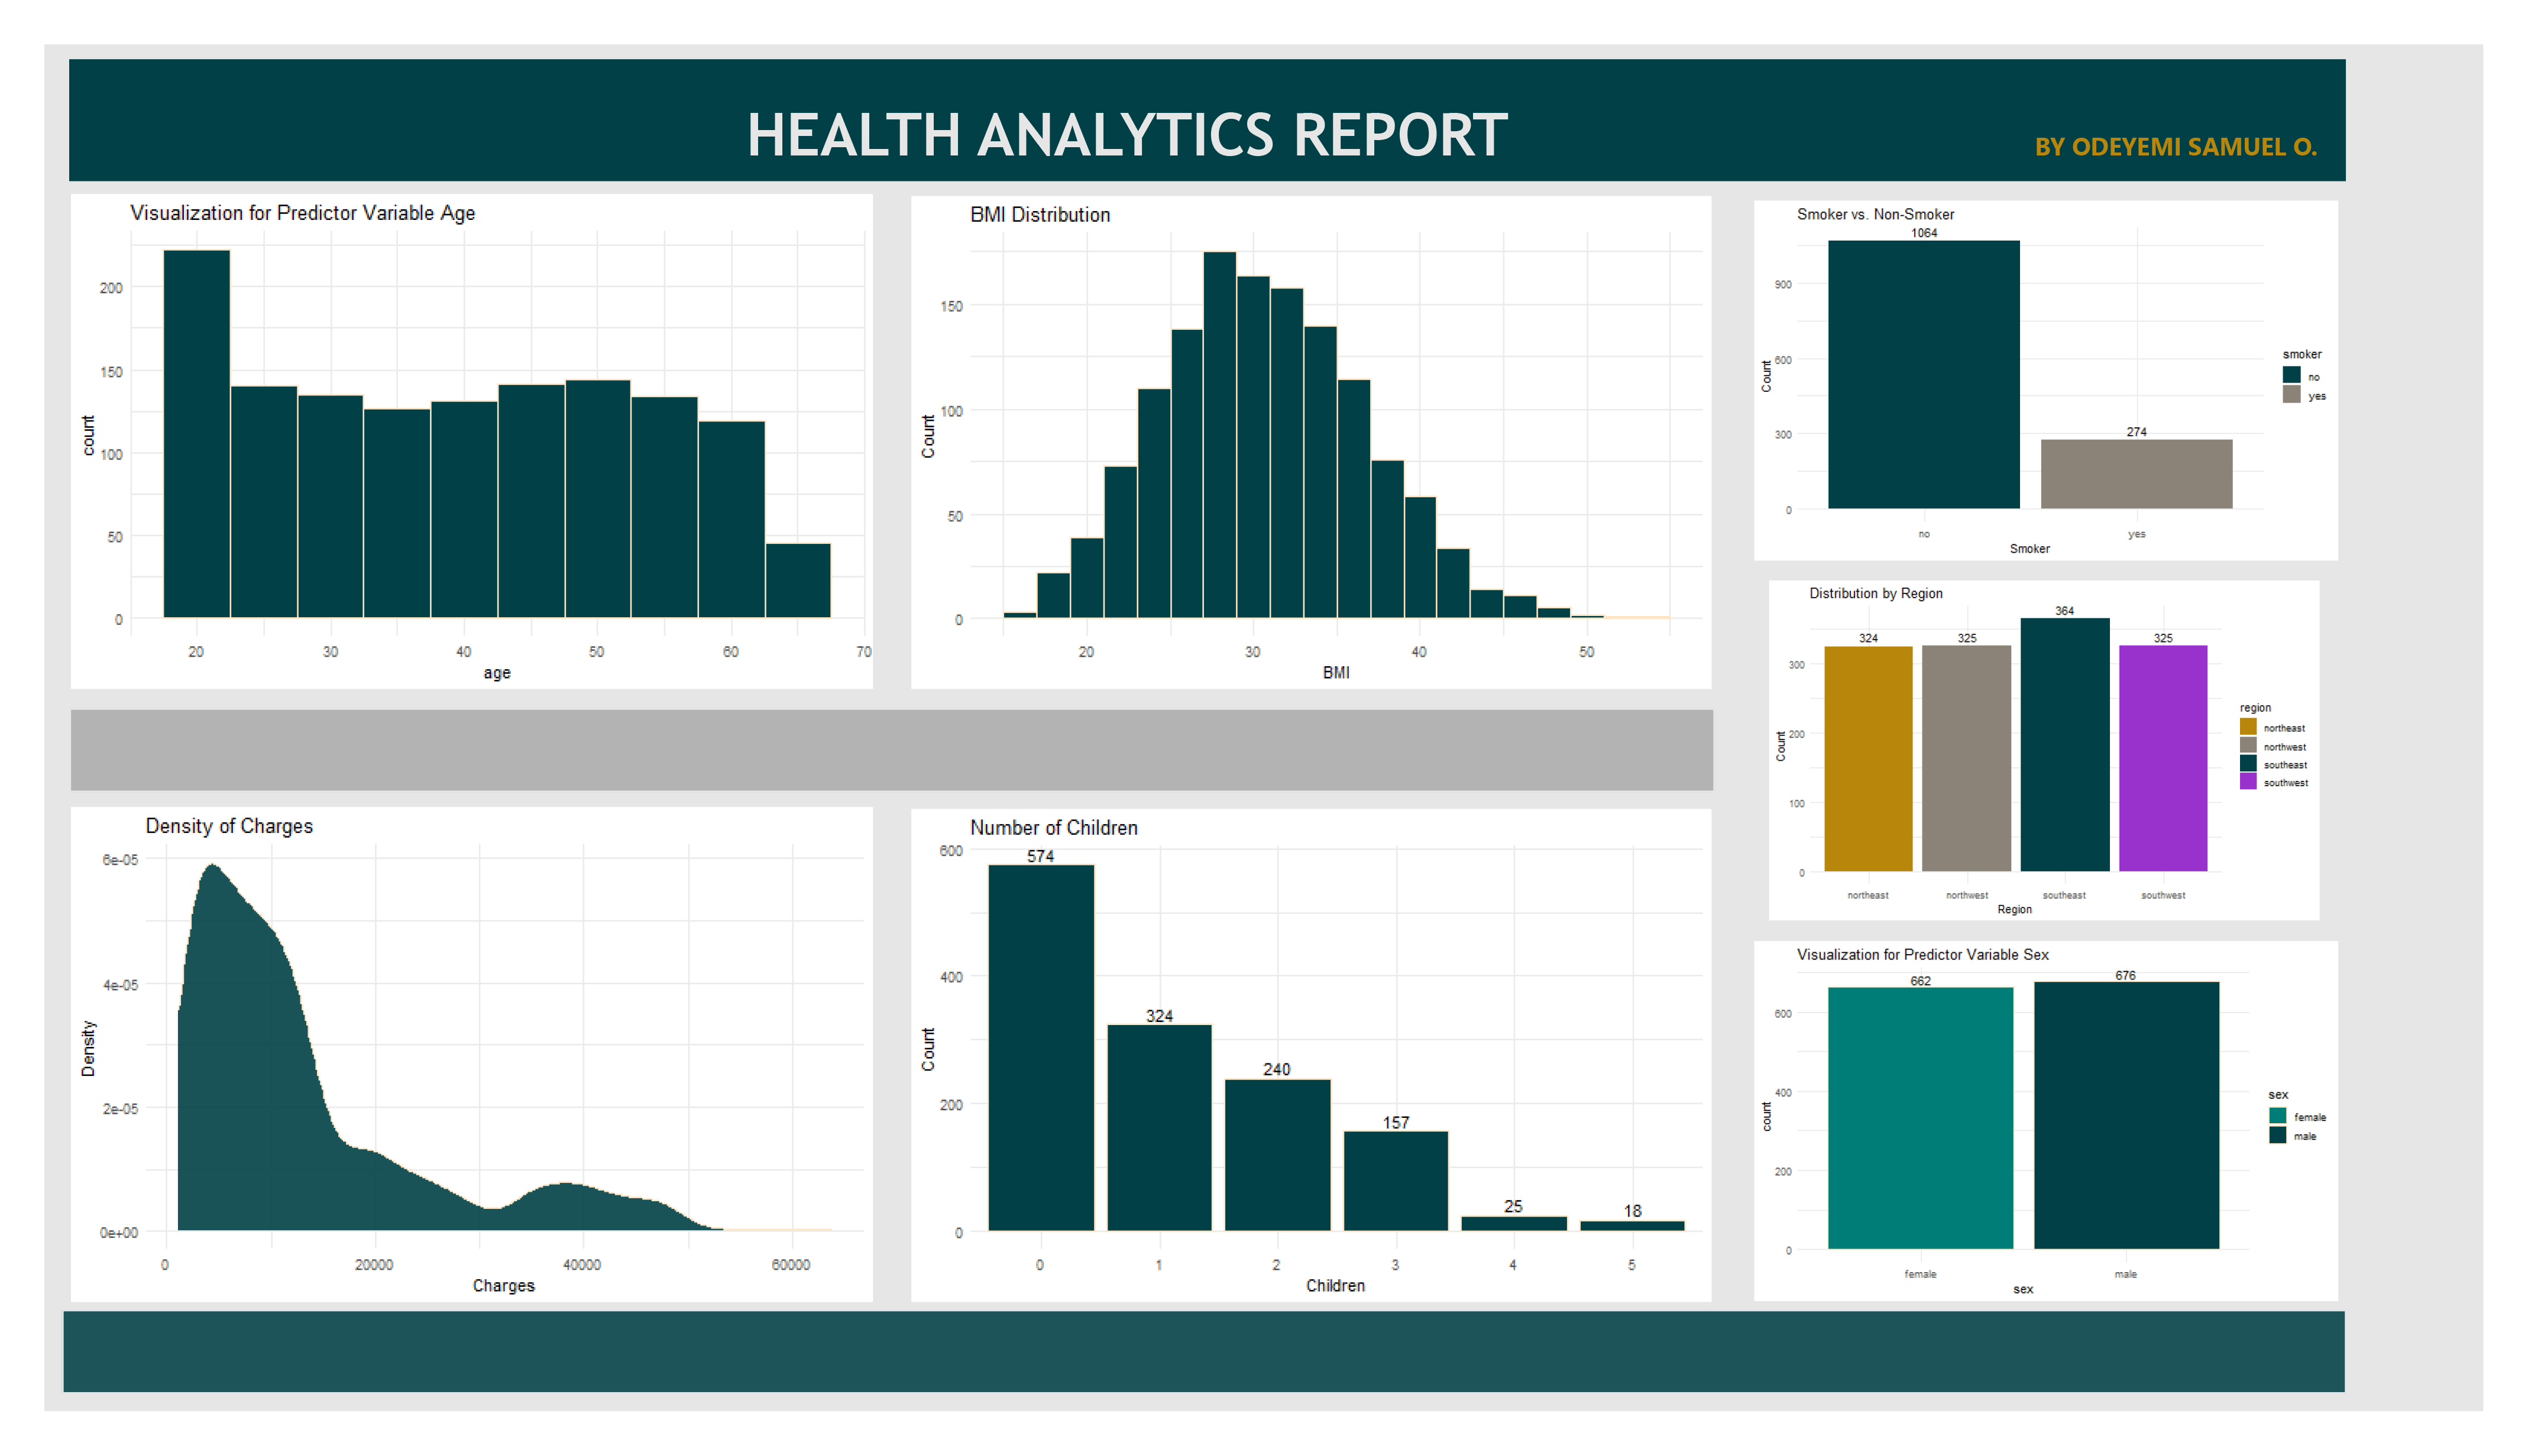

The page's visual inventory and layout, read from the dashboard file:
{"tool":"powerbi","page":{"name":"Page 1","canvas":[1320,740],"ordinal":0},"visuals":[{"type":"image","box":[9.2,0,443.8,430.7],"z":0},{"type":"image","box":[464.2,0,442.7,430.5],"z":1},{"type":"image","box":[9.4,353.9,444,386.1],"z":2},{"type":"image","box":[464.2,353.9,442.7,386.1],"z":3},{"type":"image","box":[846.3,285.2,472.3,193.7],"z":4},{"type":"image","box":[920.3,441.3,325.6,282.5],"z":5},{"type":"image","box":[920.3,60.5,325.6,242.2],"z":6},{"type":"textbox","box":[13.5,8.1,1232.4,65.9],"z":7},{"type":"shape","box":[13.5,359.2,890.7,45.7],"z":8},{"type":"shape","box":[9.4,684.8,1236.5,45.7],"z":9}]}

Visuals, with their boxes in screenshot pixels (x1, y1, x2, y2):
image: {"left": 161, "top": 53, "right": 970, "bottom": 837}
image: {"left": 991, "top": 53, "right": 1797, "bottom": 836}
image: {"left": 162, "top": 697, "right": 971, "bottom": 1400}
image: {"left": 991, "top": 697, "right": 1797, "bottom": 1400}
image: {"left": 1687, "top": 572, "right": 2527, "bottom": 925}
image: {"left": 1821, "top": 857, "right": 2414, "bottom": 1371}
image: {"left": 1821, "top": 163, "right": 2414, "bottom": 604}
textbox: {"left": 170, "top": 67, "right": 2414, "bottom": 187}
shape: {"left": 170, "top": 707, "right": 1792, "bottom": 790}
shape: {"left": 162, "top": 1300, "right": 2414, "bottom": 1383}
